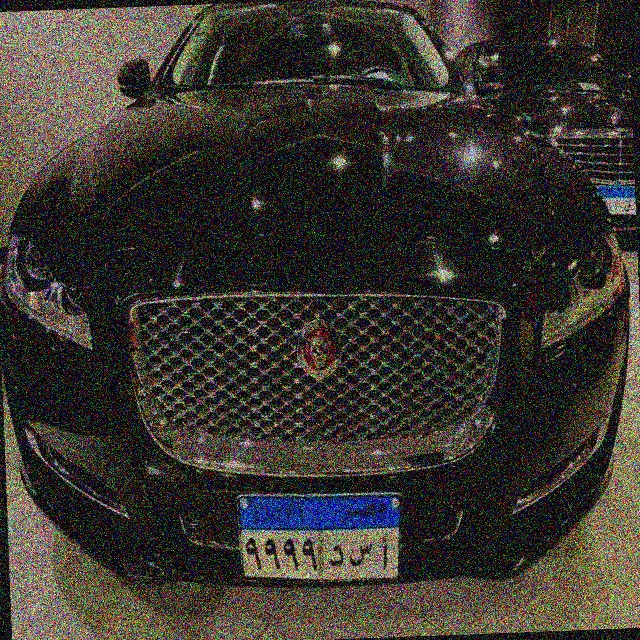License Plate: (237, 489, 408, 587)
